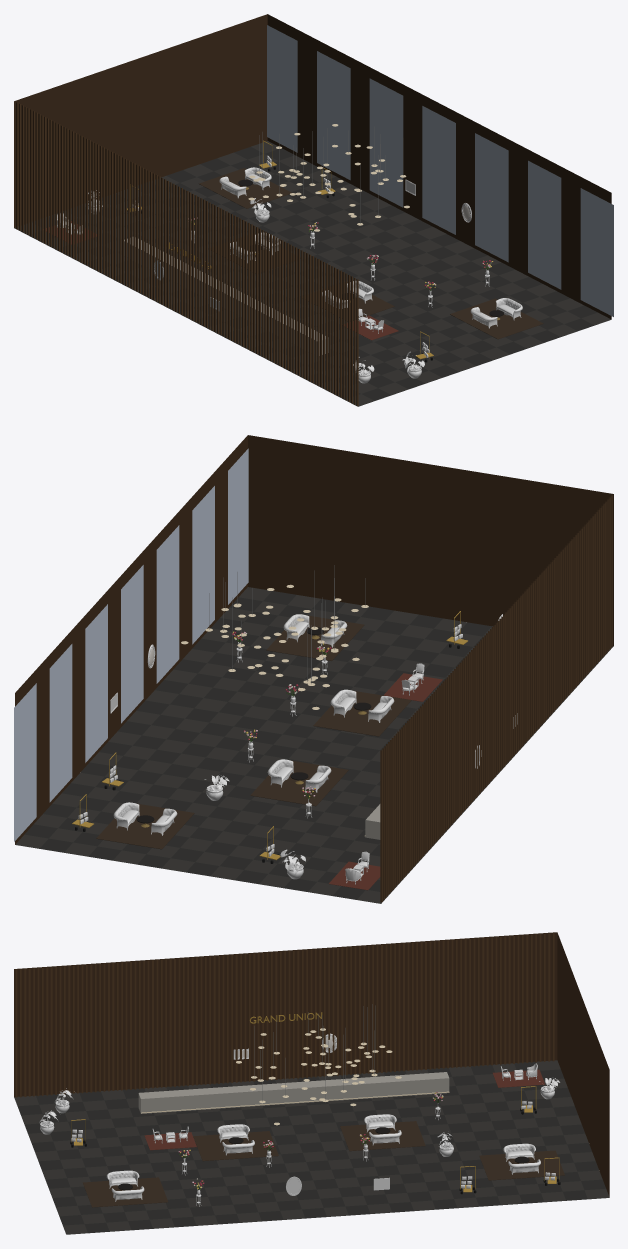
The model's file is grandHyatt_int.glb.
3 renders of one model, top to bottom at view 1: azimuth 30°, elevation 25°; view 2: azimuth 150°, elevation 25°; view 3: azimuth 270°, elevation 25°, orthographic. The views are drawn at different scales.
Visible parts, largest first — view 1: I_x_veneer, I_x_marble_white, I_sky, I_x_carpet_red, I_x_marble_black, I_p_sofa_02__0, I_crystal, I_metal, I_p_potted_plant_02__1; view 2: I_x_veneer, I_x_marble_white, I_sky, I_x_carpet_red, I_p_sofa_02__0, I_crystal, I_x_marble_black, I_metal, I_d_x_brass; view 3: I_x_veneer, I_x_marble_white, I_x_carpet_red, I_x_marble_black, I_p_sofa_02__0, I_crystal, I_metal, I_p_potted_plant_02__0, I_p_potted_plant_02__1, I_d_x_brass, I_lampI.
Part boxes in pixels (x1,y1,x2,y2): I_x_veneer: (14,14,611,406); I_x_marble_white: (14,141,611,406); I_sky: (267,25,613,316); I_x_carpet_red: (43,168,543,340); I_x_marble_black: (124,179,503,355); I_p_sofa_02__0: (219,167,522,328); I_crystal: (248,124,469,231); I_metal: (245,126,499,320); I_p_potted_plant_02__1: (88,190,424,376); I_x_veneer: (15,435,613,902); I_x_marble_white: (15,587,613,903); I_sky: (14,448,248,841); I_x_carpet_red: (96,614,442,890); I_p_sofa_02__0: (113,614,394,835); I_crystal: (149,584,368,709); I_x_marble_black: (136,627,380,839); I_metal: (141,565,366,827); I_d_x_brass: (72,611,467,860); I_x_veneer: (14,932,609,1196); I_x_marble_white: (14,1060,609,1234); I_x_carpet_red: (82,1069,564,1207); I_x_marble_black: (118,1072,529,1190); I_p_sofa_02__0: (106,1114,540,1201); I_crystal: (235,1028,401,1125); I_metal: (235,1004,522,1163); I_p_potted_plant_02__0: (40,1086,554,1156); I_p_potted_plant_02__1: (39,1078,559,1149); I_d_x_brass: (71,1086,559,1192); I_lampI: (141,1091,449,1113).
Size of the model in its own units: 27.79 by 9.5 by 40.36.
